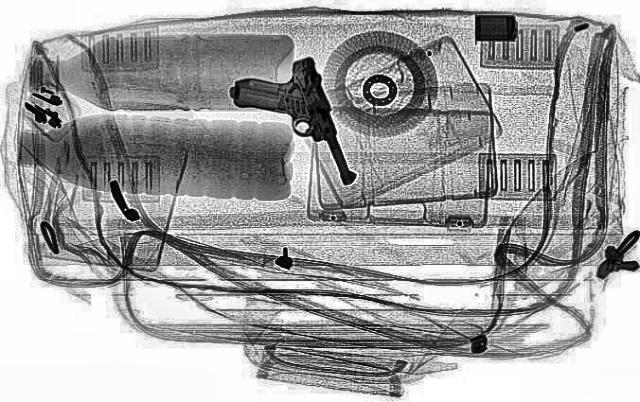Gun: (215, 55, 363, 193)
